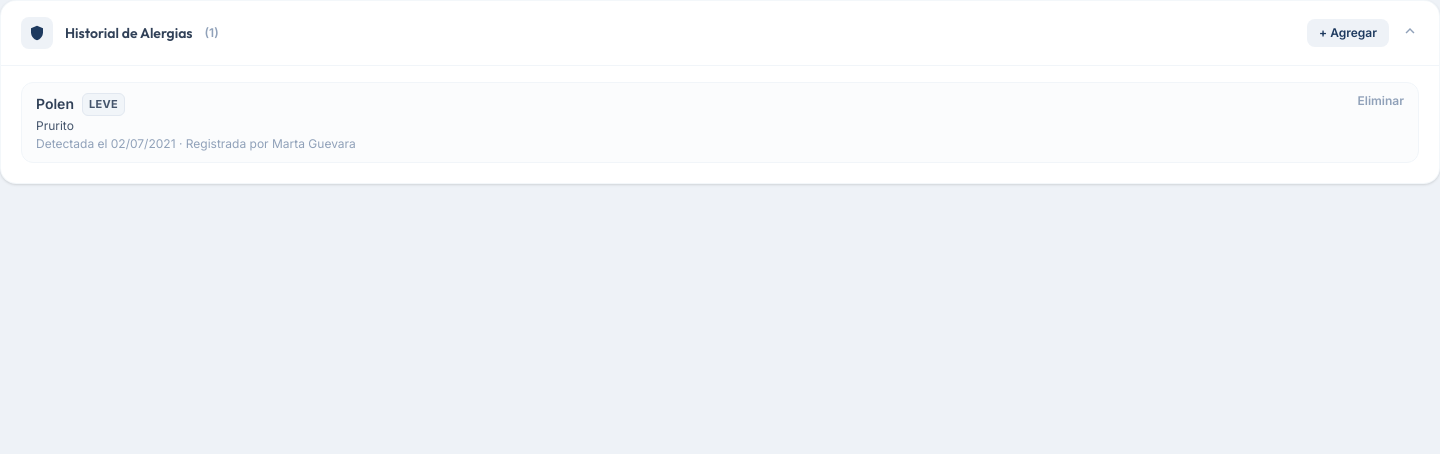
HU-11 · alergias del paciente › c2: una severa recién agregada se coloca arriba sin recargar
This screenshot has width=1440, height=454.
Click the button "+ Agregar" at (1348, 33), box x1=1307 y1=19 x2=1389 y2=47
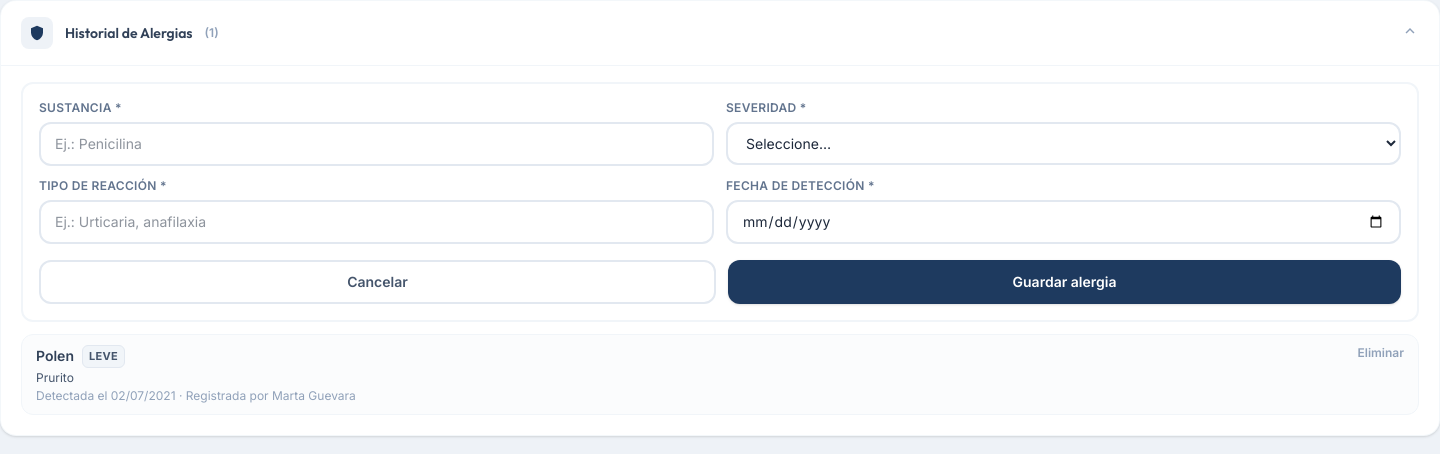
Type "Yodo" into the field labelled "Sustancia *" at (376, 144), box x1=39 y1=122 x2=714 y2=166
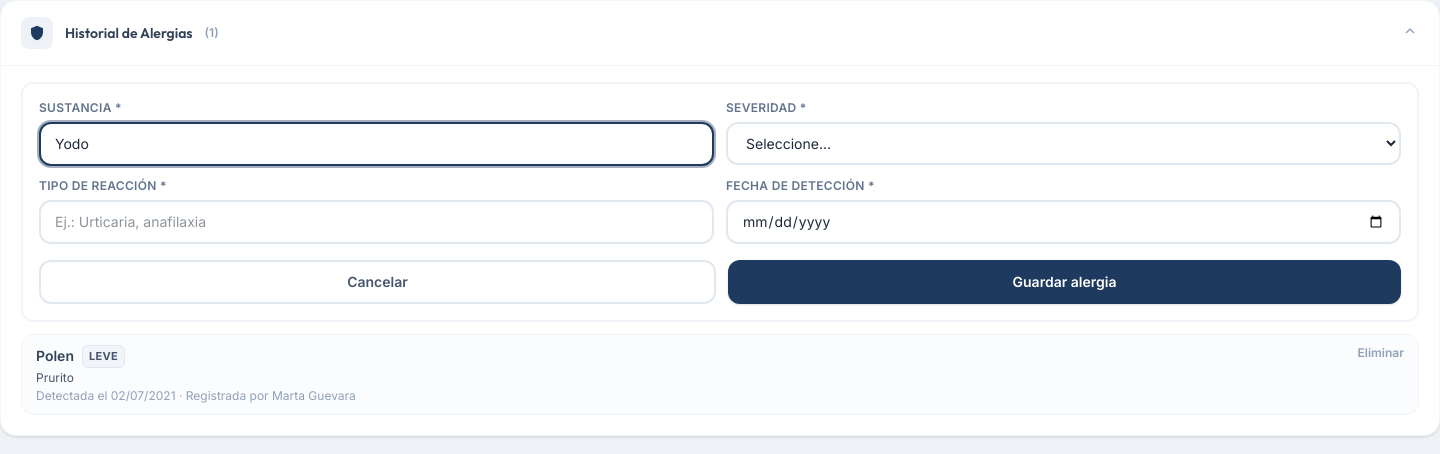
Type "Edema de glotis" into the field labelled "Tipo de reacción *" at (376, 222), box x1=39 y1=200 x2=714 y2=244
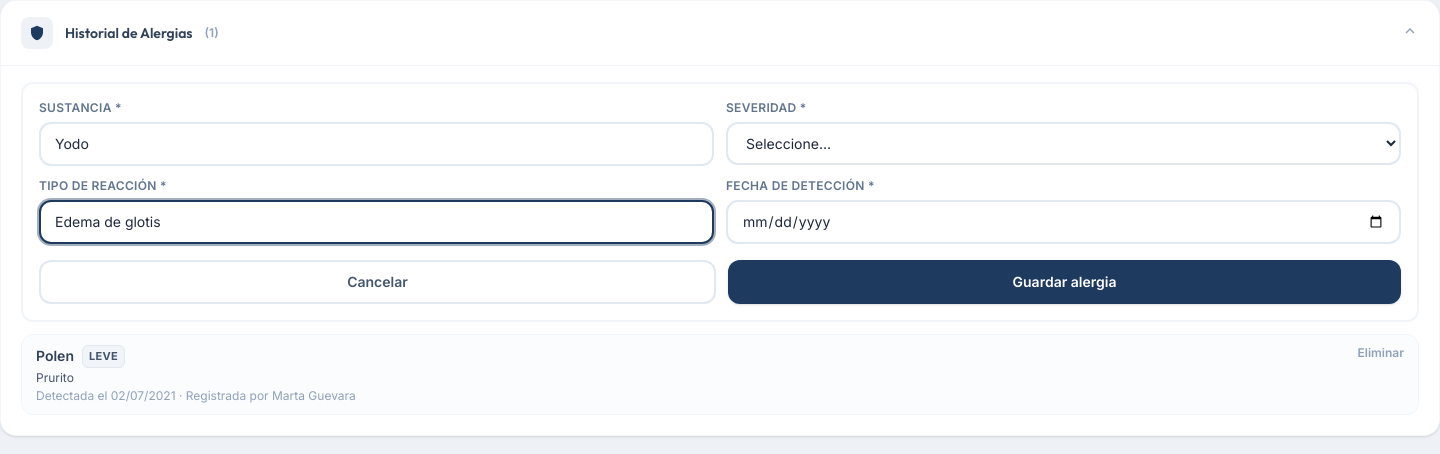
Select "Severa" in the dropdown labelled "Severidad *" at (1064, 144), box x1=726 y1=122 x2=1401 y2=165
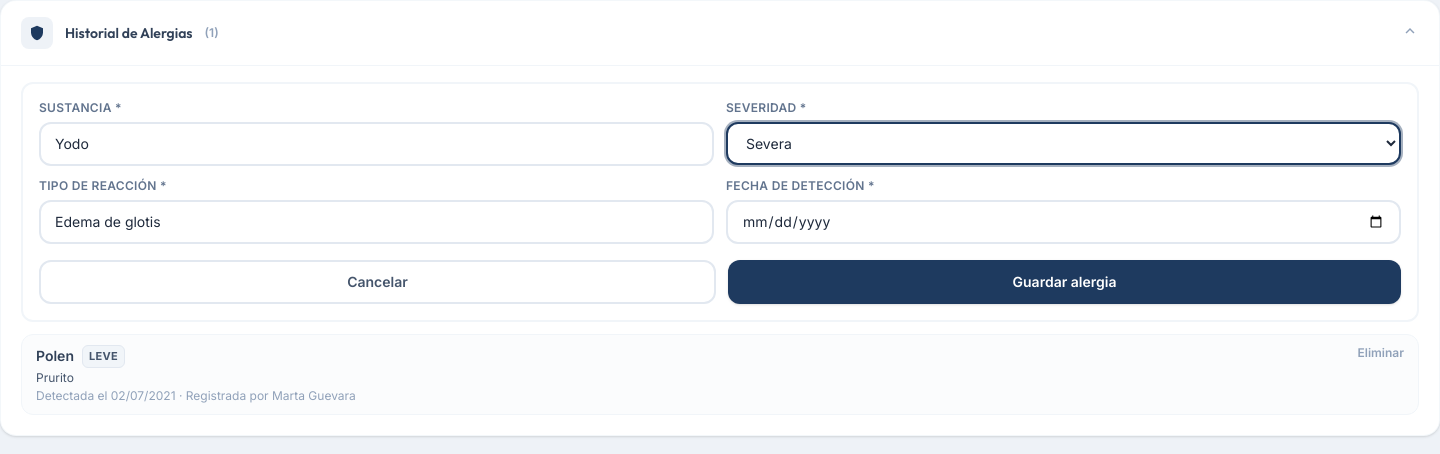
Type "2022-01-10" into the date field labelled "Fecha de detección *" at (1064, 222), box x1=726 y1=200 x2=1401 y2=244
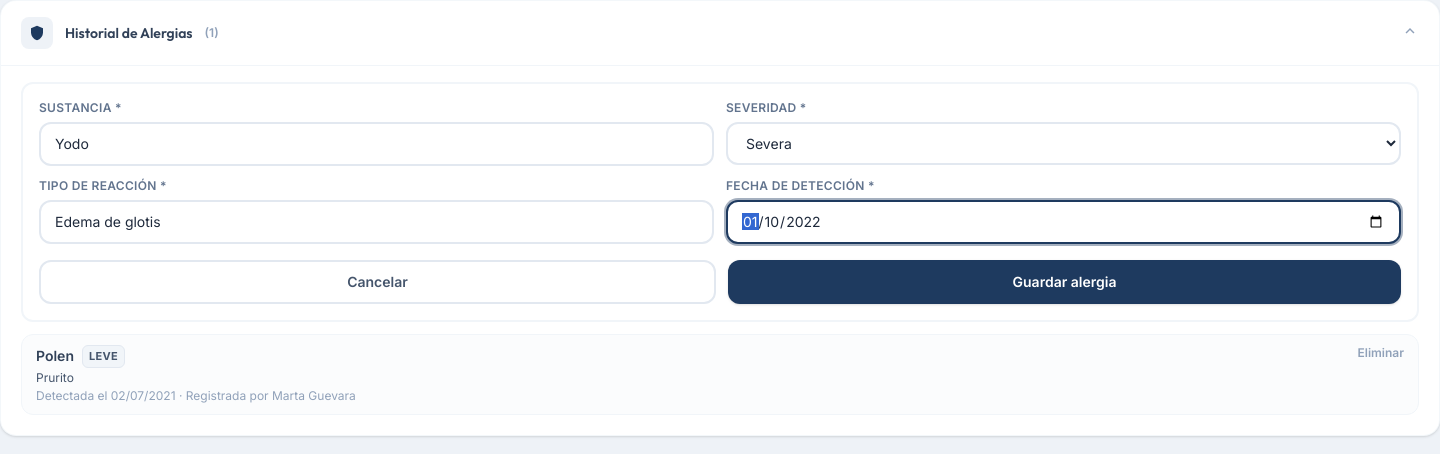
Click the button "Guardar alergia" at (1064, 282), box x1=728 y1=260 x2=1401 y2=304
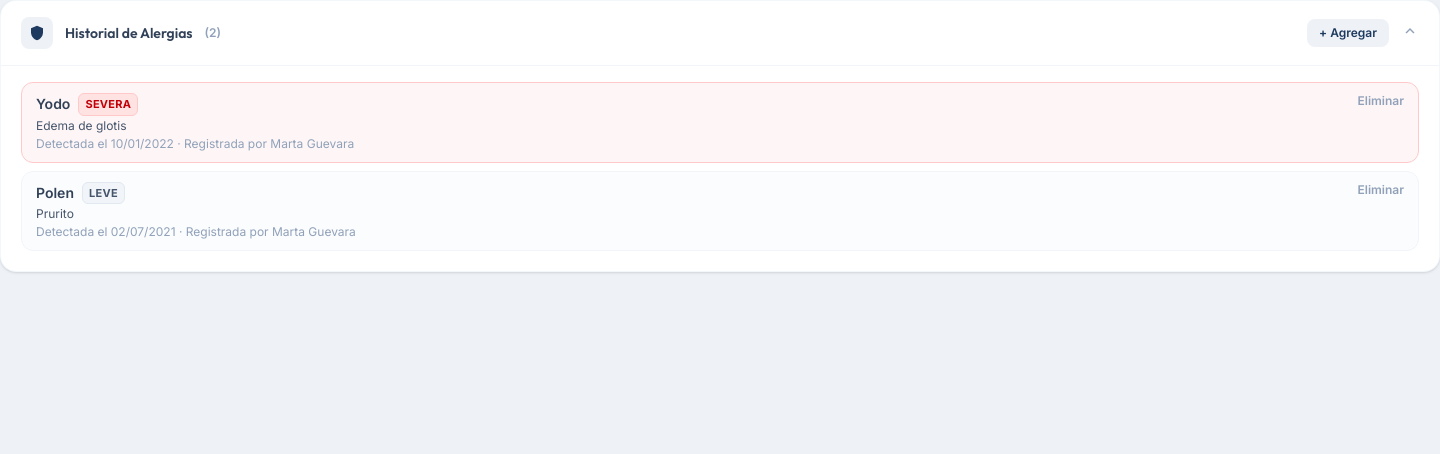
expect the text "Polen" is shown: met, box x1=36 y1=183 x2=74 y2=203
expect the text "Yodo" is shown: met, box x1=36 y1=94 x2=70 y2=114
